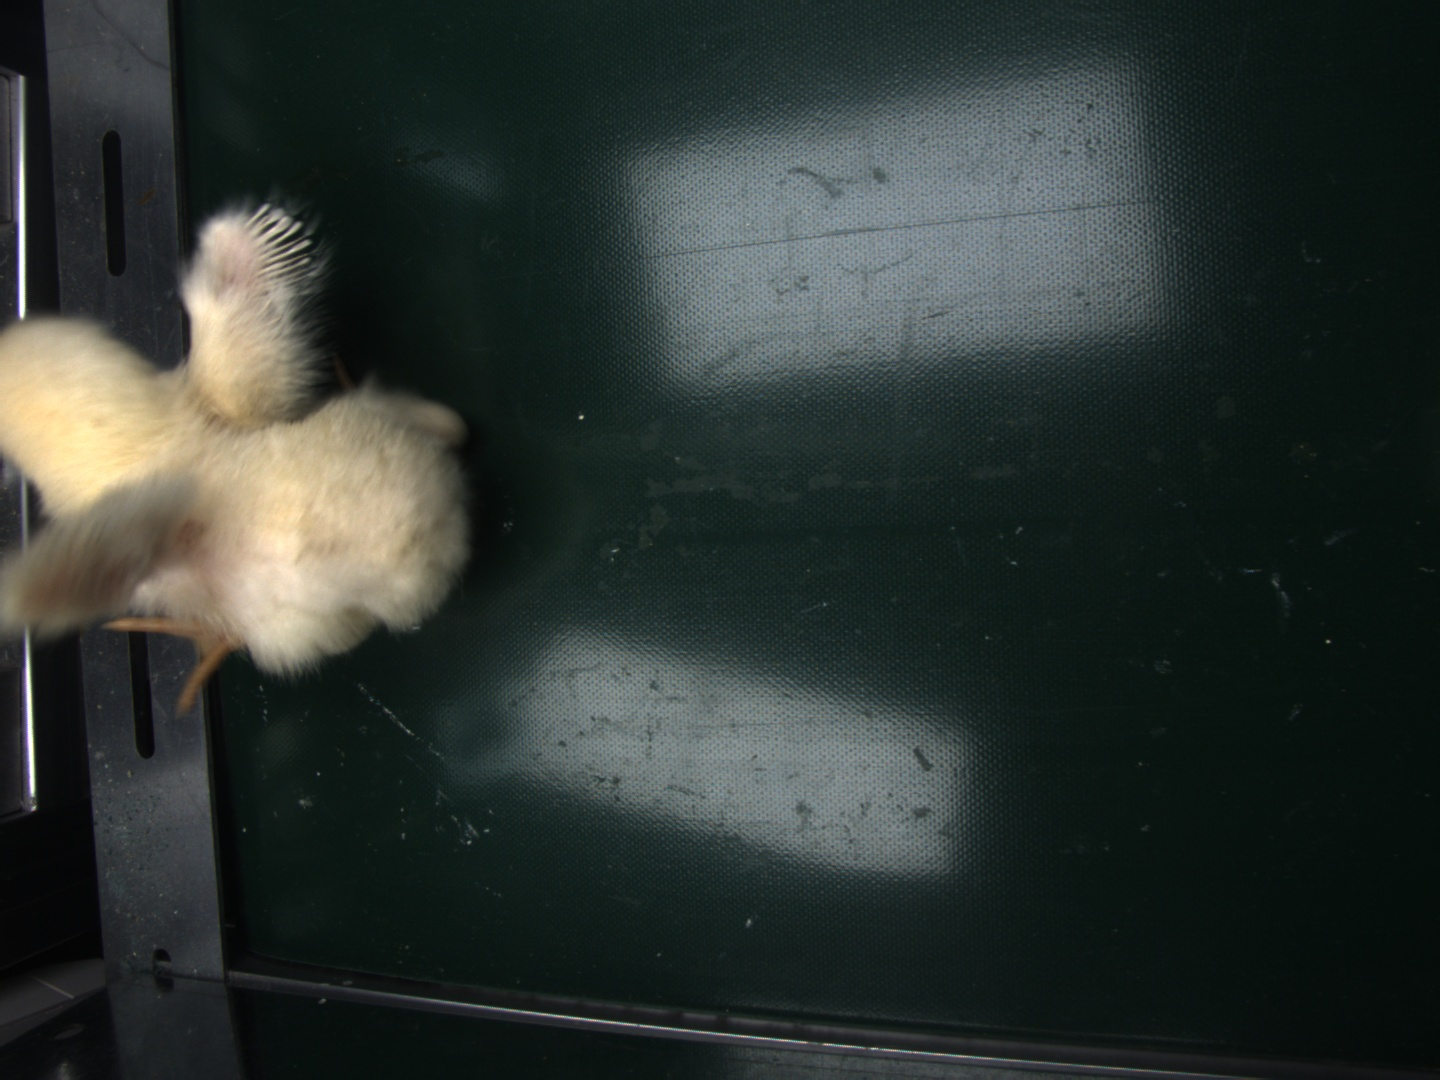male: (242, 202, 319, 293)
